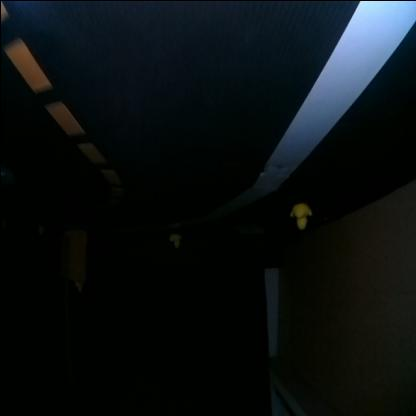Duckie: (288, 204, 308, 230), (168, 235, 180, 248), (74, 283, 82, 292)
